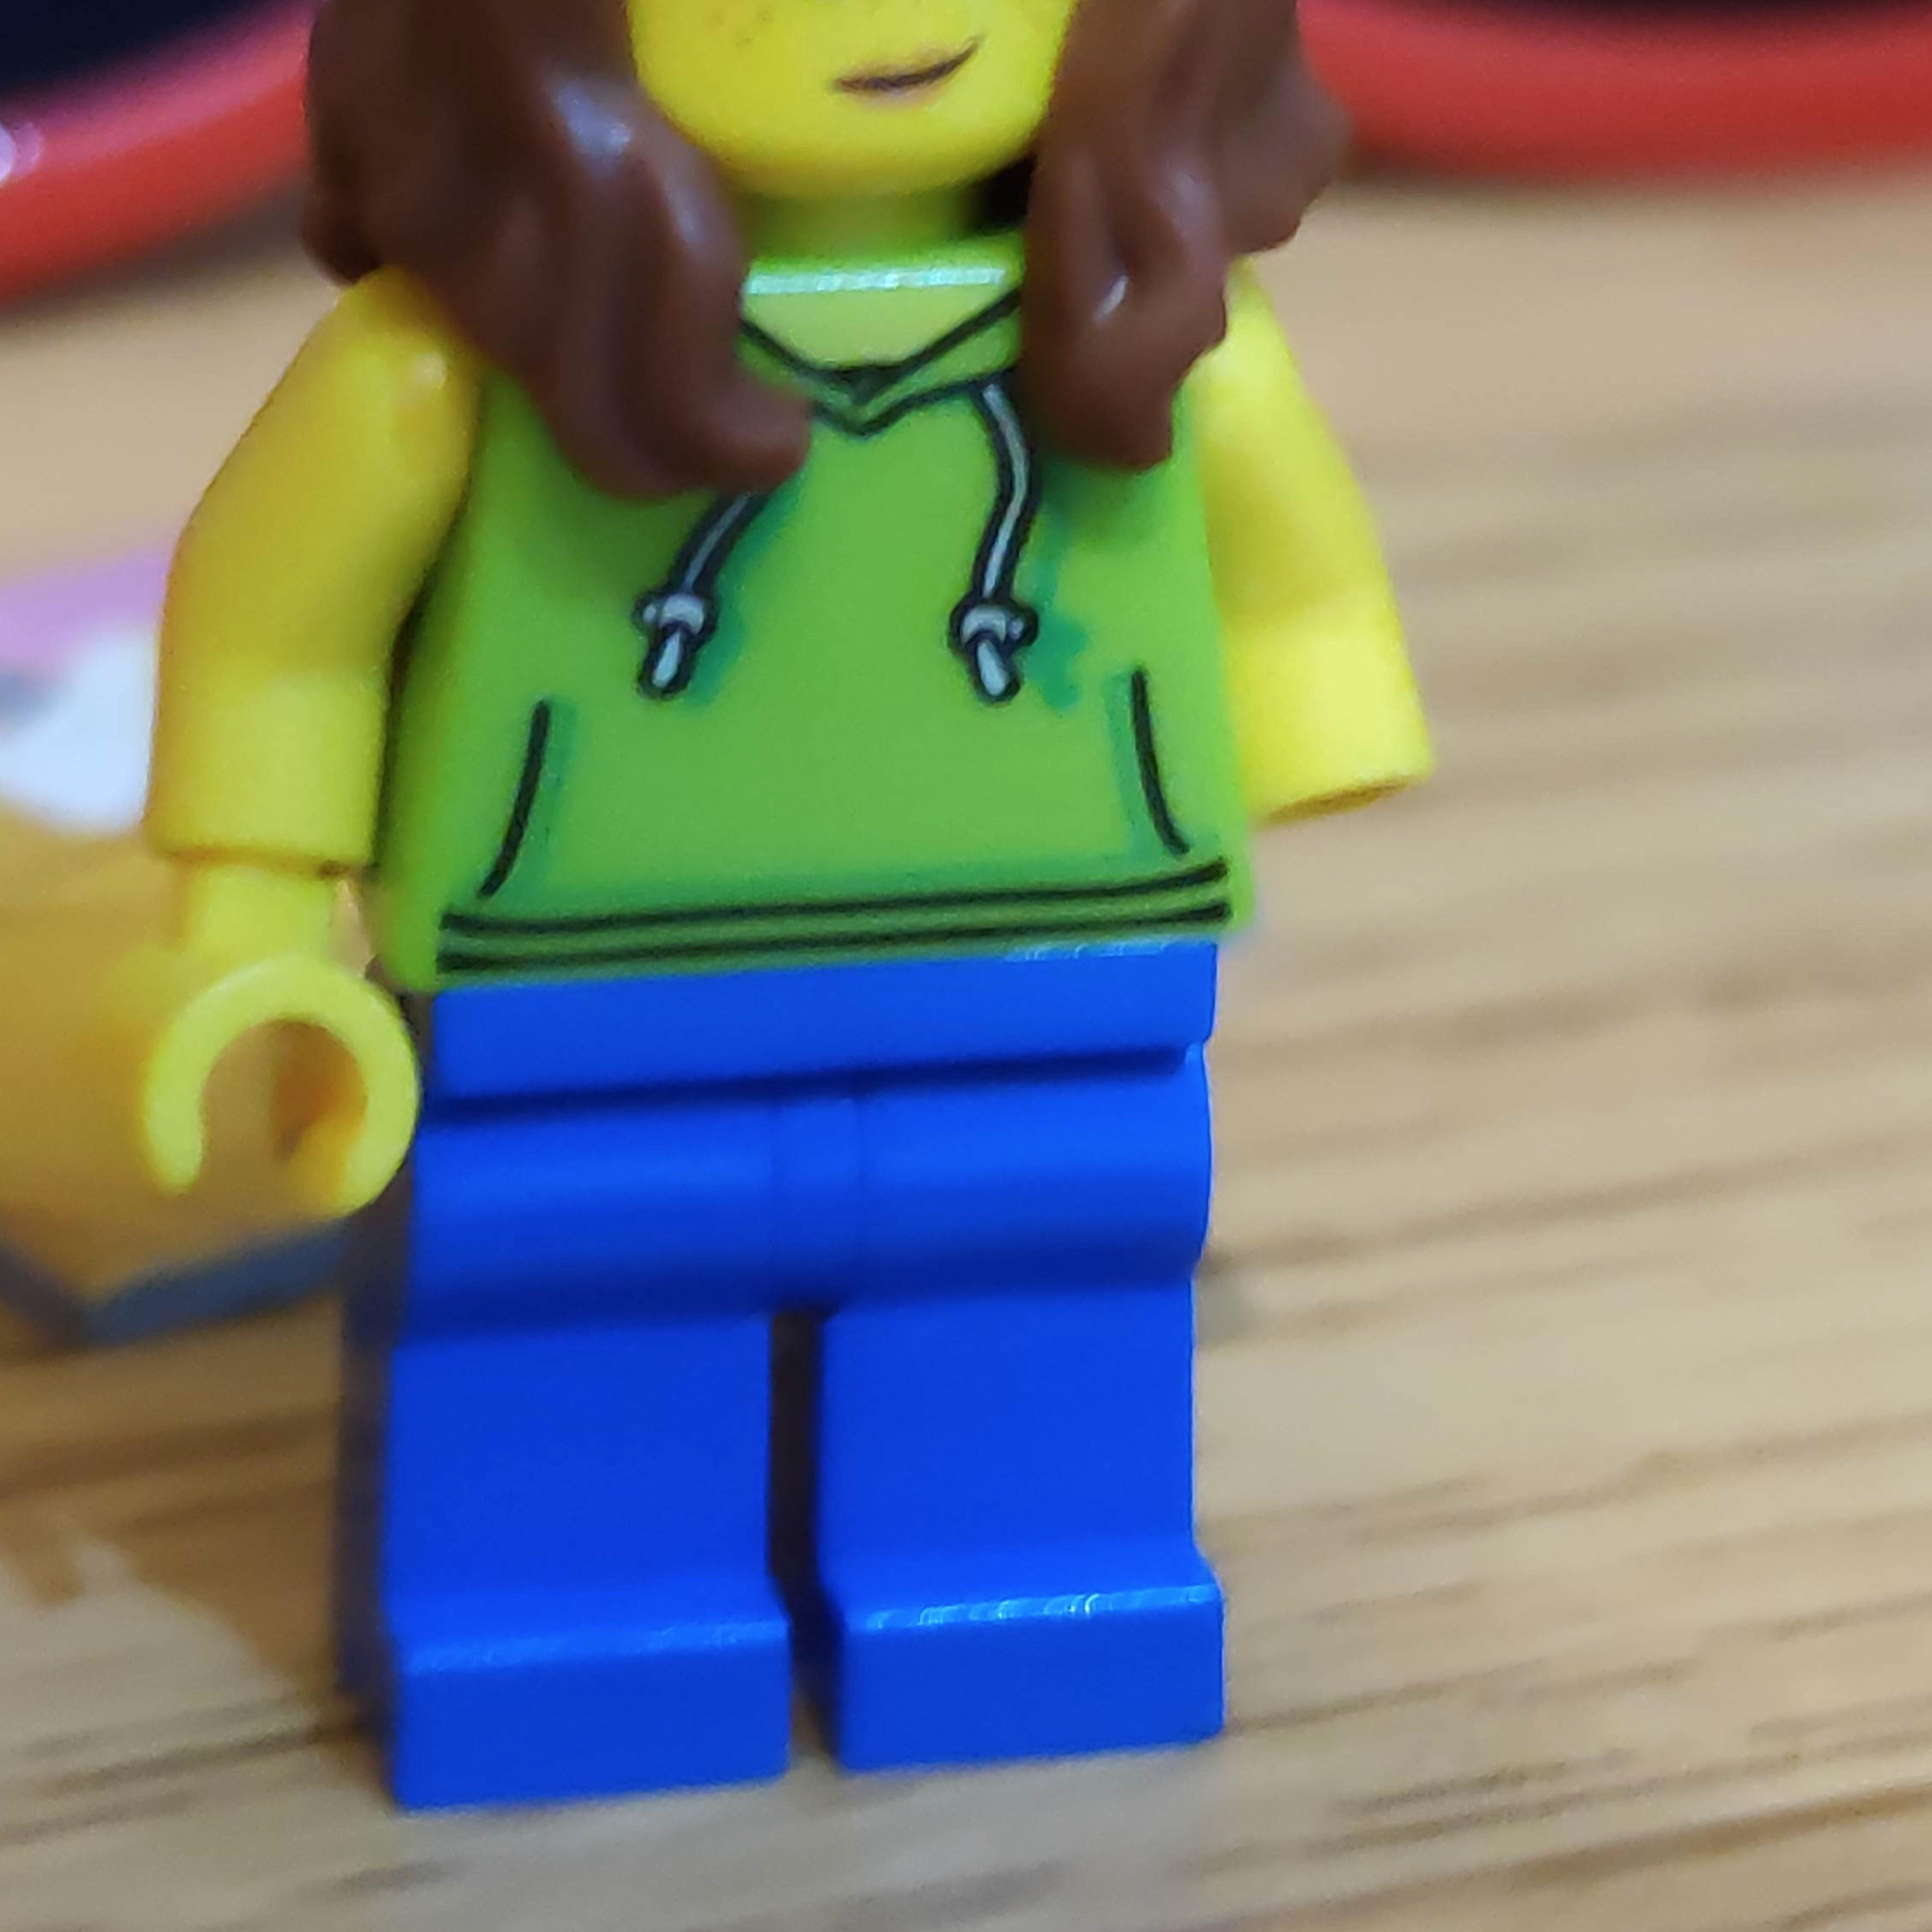lego: (87, 0, 1435, 1812)
